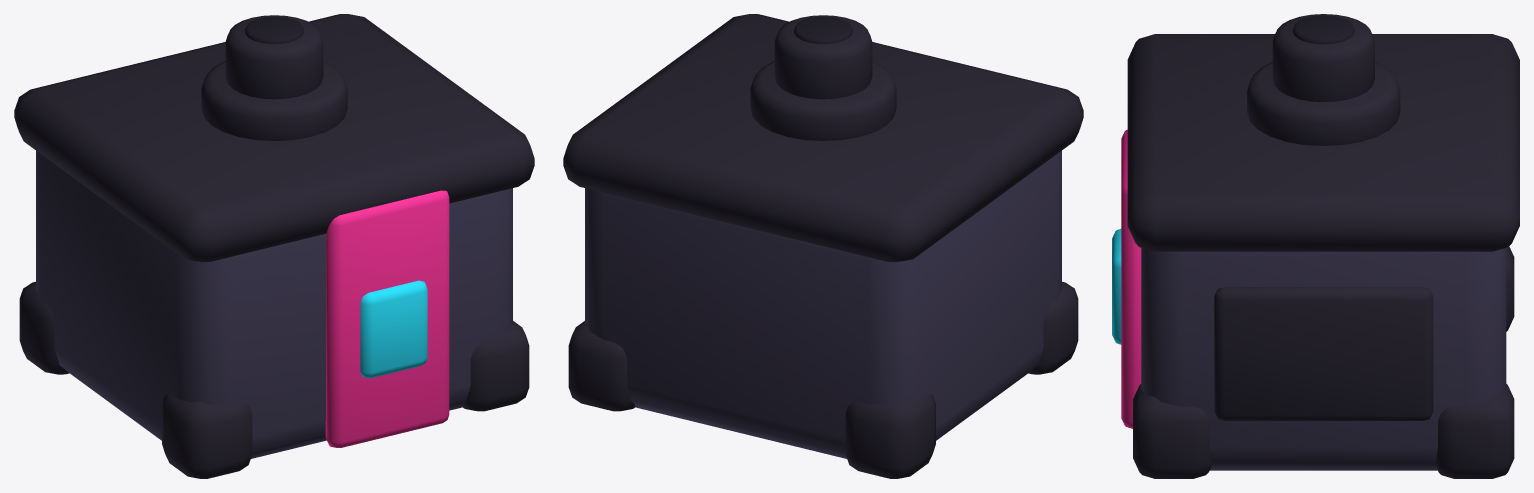
File: ColdSparks.fbx
The picture shows the model from 3 angles, left to right: view 1: azimuth 30°, elevation 25°; view 2: azimuth 150°, elevation 25°; view 3: azimuth 270°, elevation 25°; orthographic projection. The views are drawn at different scales.
Parts seen in each view (by area): view 1: Dark, Body, Neon_Magenta, Neon_Cyan, Cone; view 2: Dark, Body, Cone; view 3: Dark, Body, Neon_Magenta, Cone, Neon_Cyan.
Part boxes in pixels (box(x1,y1,x2,y2)): Dark: box(14, 14, 534, 478); Body: box(36, 151, 512, 458); Neon_Magenta: box(325, 190, 449, 447); Neon_Cyan: box(360, 280, 427, 377); Cone: box(245, 16, 303, 43); Dark: box(563, 14, 1083, 478); Body: box(585, 151, 1061, 458); Cone: box(794, 16, 852, 43); Dark: box(1127, 14, 1519, 478); Body: box(1141, 248, 1506, 470); Neon_Magenta: box(1121, 129, 1141, 428); Cone: box(1292, 15, 1354, 44); Neon_Cyan: box(1112, 229, 1121, 344).
Size of the model in its own units: 1.77 by 1.69 by 1.68.
